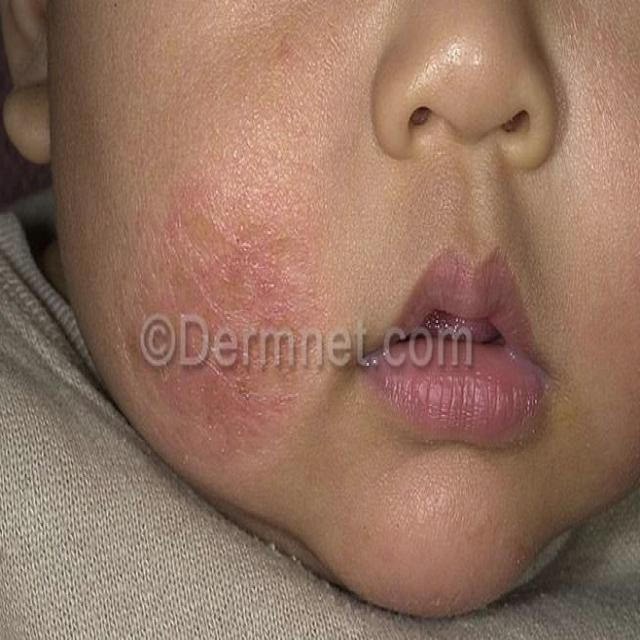Eczema: (149, 158, 342, 458)
